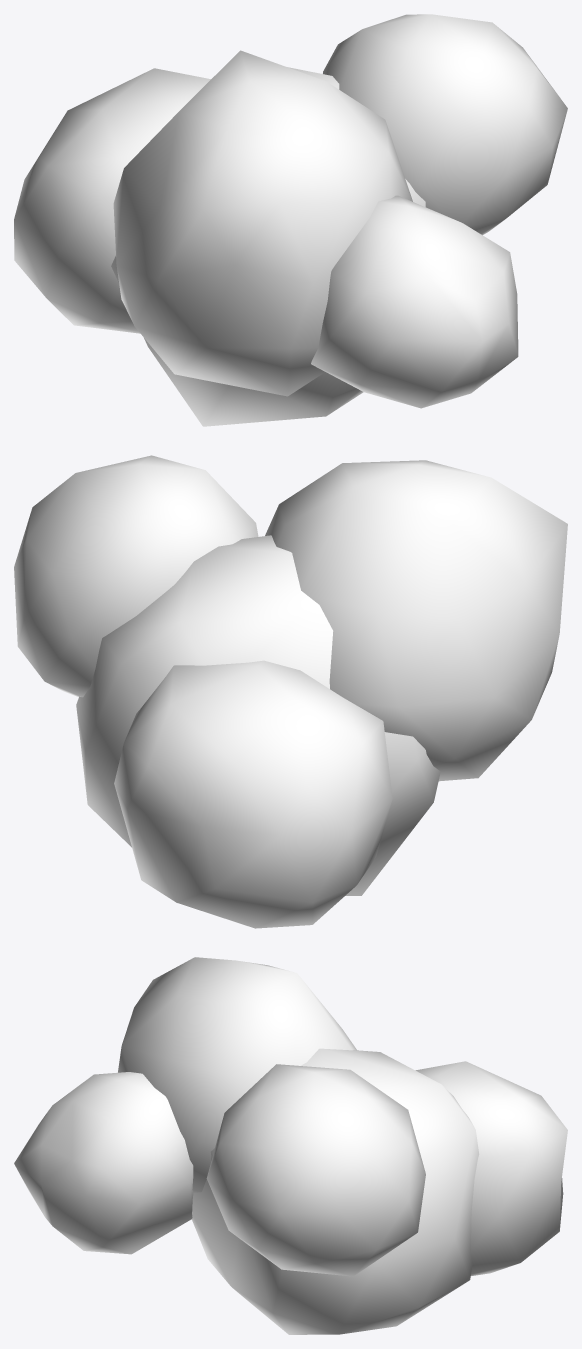
File: Cloud02.fbx
3 renders of one model, top to bottom at view 1: azimuth 30°, elevation 25°; view 2: azimuth 150°, elevation 25°; view 3: azimuth 270°, elevation 25°, orthographic. The views are drawn at different scales.
Parts seen in each view (by area): view 1: Icosphere.004; view 2: Icosphere.004; view 3: Icosphere.004.
Boxes of the visible parts, x1,y1,x2,y2 form: Icosphere.004: (14,14,567,426); Icosphere.004: (14,455,567,928); Icosphere.004: (14,957,567,1334).
Bounding box in the file's own units: 3771 × 3013 × 4648.
